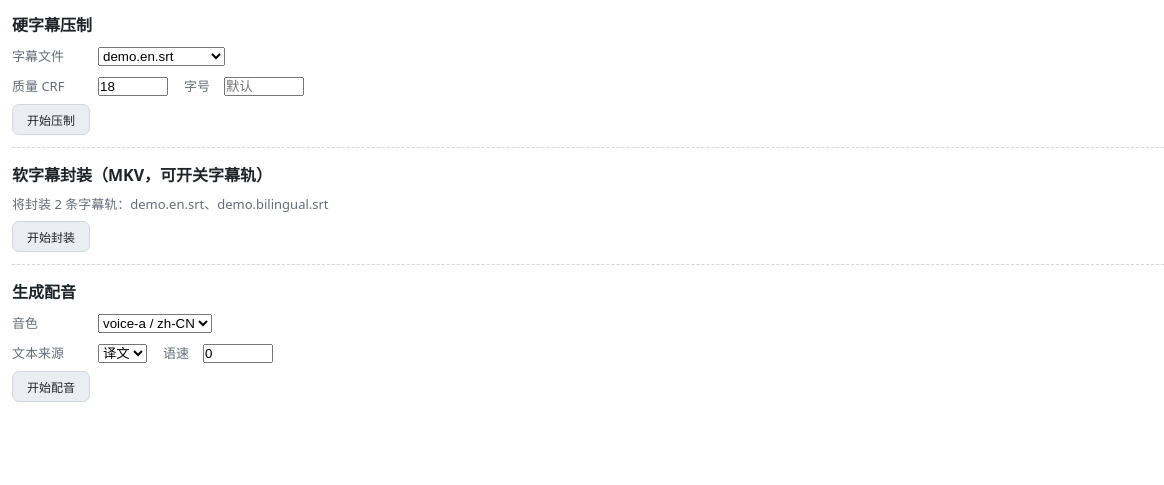
Test: MediaTools › 目标语言无匹配音色时提示已回落默认音色
Click the button "开始配音": (51, 386) [12,371,90,402]
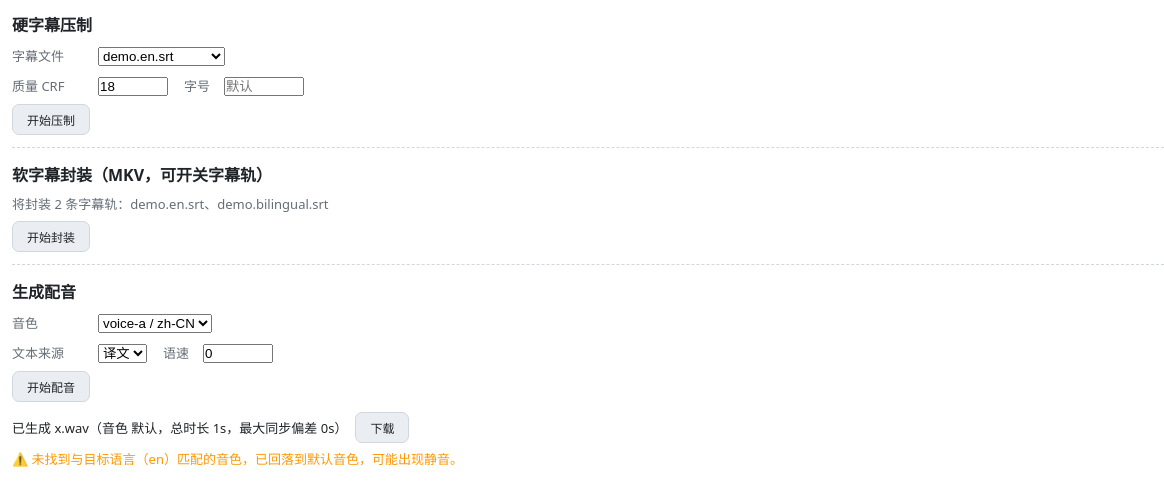
expect the text "⚠️ 未找到与目标语言（en）匹配的音色，已回落到默认音色，可能出现静音。" is shown: met, box [12,450,463,468]
